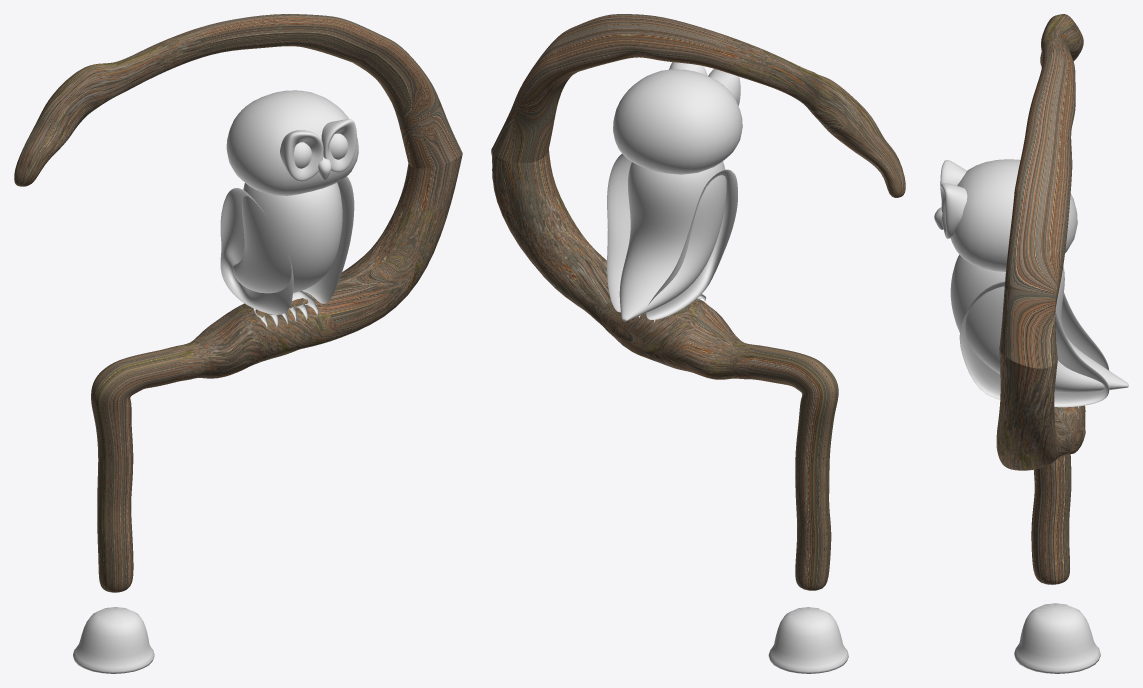
The model's file is BuhoIdea.glb.
The picture shows the model from 3 angles, left to right: view 1: azimuth 30°, elevation 25°; view 2: azimuth 150°, elevation 25°; view 3: azimuth 270°, elevation 25°; orthographic projection. The views are drawn at different scales.
Visible parts, largest first — view 1: Cylinder.001, Cube, Cube.001, Plane, Cylinder, Circle, Sphere; view 2: Cylinder.001, Cube, Cube.001, Plane, Cylinder, Circle; view 3: Cylinder.001, Cube, Cube.001, Cylinder, Plane, Circle.
Boxes of the visible parts, left/top/right/bottom form: Cylinder.001: left=14, top=14, right=462, bottom=592; Cube: left=232, top=182, right=342, bottom=293; Cube.001: left=226, top=90, right=358, bottom=195; Plane: left=220, top=176, right=354, bottom=314; Cylinder: left=73, top=607, right=154, bottom=673; Circle: left=280, top=119, right=356, bottom=181; Sphere: left=294, top=133, right=348, bottom=168; Cylinder.001: left=491, top=14, right=905, bottom=590; Cube: left=619, top=161, right=726, bottom=321; Cube.001: left=613, top=69, right=742, bottom=174; Plane: left=607, top=154, right=737, bottom=319; Cylinder: left=768, top=607, right=848, bottom=673; Circle: left=669, top=62, right=740, bottom=105; Cylinder.001: left=996, top=14, right=1085, bottom=584; Cube: left=950, top=255, right=1128, bottom=392; Cube.001: left=950, top=159, right=1077, bottom=271; Cylinder: left=1014, top=603, right=1100, bottom=673; Plane: left=959, top=281, right=1109, bottom=407; Circle: left=940, top=160, right=967, bottom=238.
Bounding box in the file's own units: 15.44 × 21.01 × 5.7.
1 material, 1 textured.
